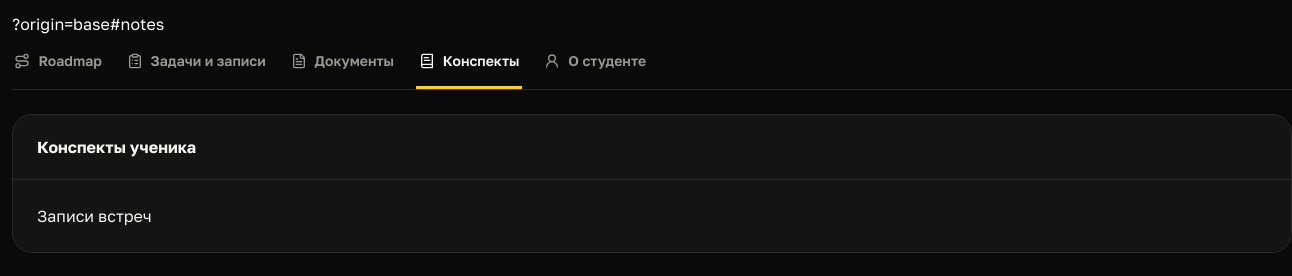
Test case: student detail navigation › exposes notes separately from documents and tasks
Expected: the tab "Задачи и записи" is shown, [124, 36, 268, 89]
Expected: the text "Записи встреч" is shown, [37, 206, 152, 226]
Step 1. Click the tab "Документы" → (342, 62), box [288, 36, 396, 89]
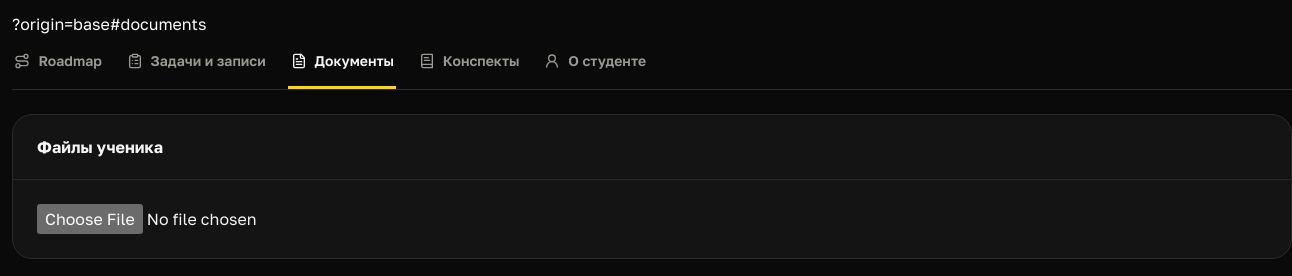
Expected: the text "Записи встреч" is gone
Expected: the text with test id "address" reads "?origin=base#documents", [12, 14, 206, 34]
